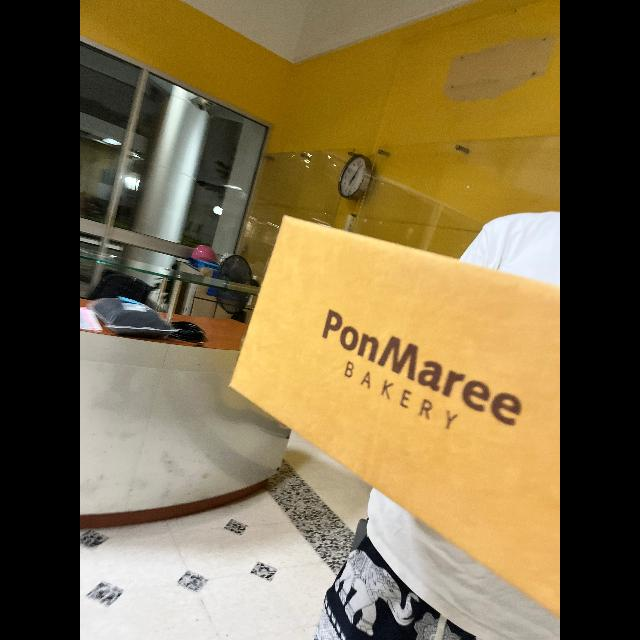cardboard_box: (226, 215, 560, 628)
